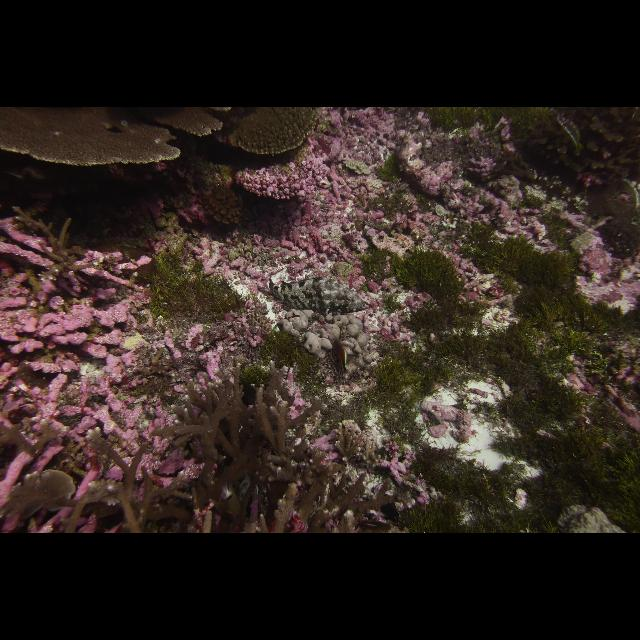Groupers: (268, 275, 368, 315)
